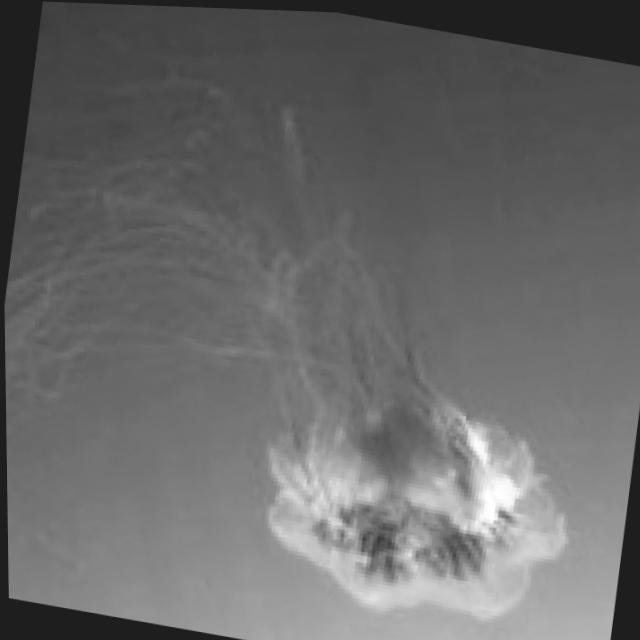Jellyfish: (146, 82, 625, 640)
